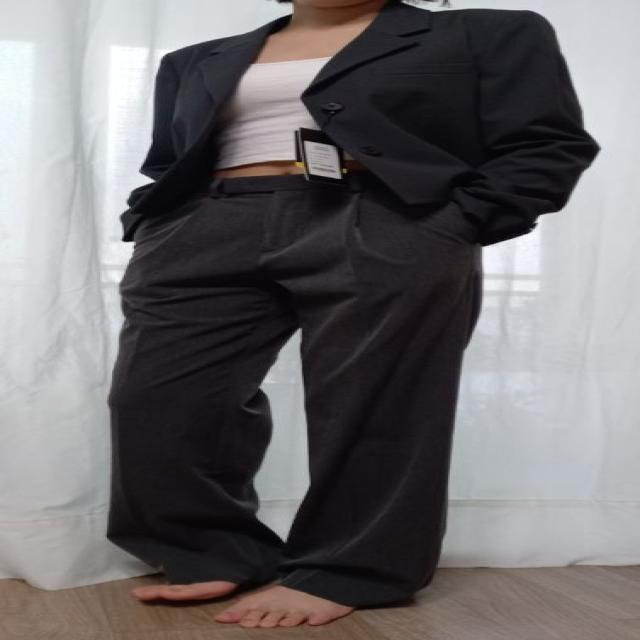blazer: (116, 4, 598, 255)
slacks: (101, 170, 486, 608)
